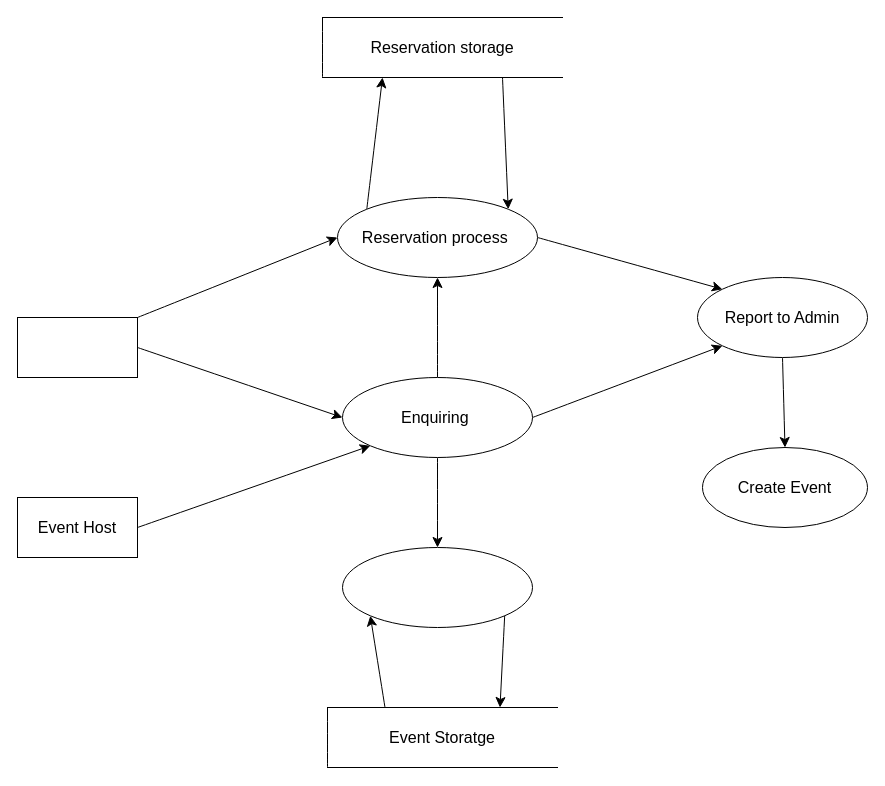
Image size: 885x786. Some labels were removed from this diagram. The shapes that lost their labels are listed below. From the top down, each one's box as (x1, y1, x2, y2) in pixels, then its label:
(16, 316, 138, 378): Customer
(342, 546, 532, 628): Query Data base
